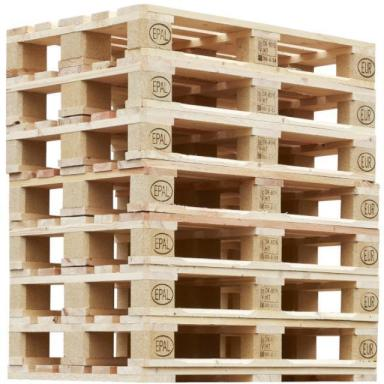pallet: (6, 4, 376, 89), (6, 55, 376, 134), (6, 107, 376, 181), (9, 158, 380, 228), (9, 212, 380, 275), (9, 264, 379, 321), (9, 316, 378, 368), (171, 15, 353, 78), (172, 67, 353, 125), (255, 131, 354, 172), (257, 229, 357, 266), (171, 118, 253, 161), (175, 273, 257, 310), (281, 180, 358, 219), (271, 279, 357, 313), (174, 324, 256, 359), (281, 326, 356, 360)
